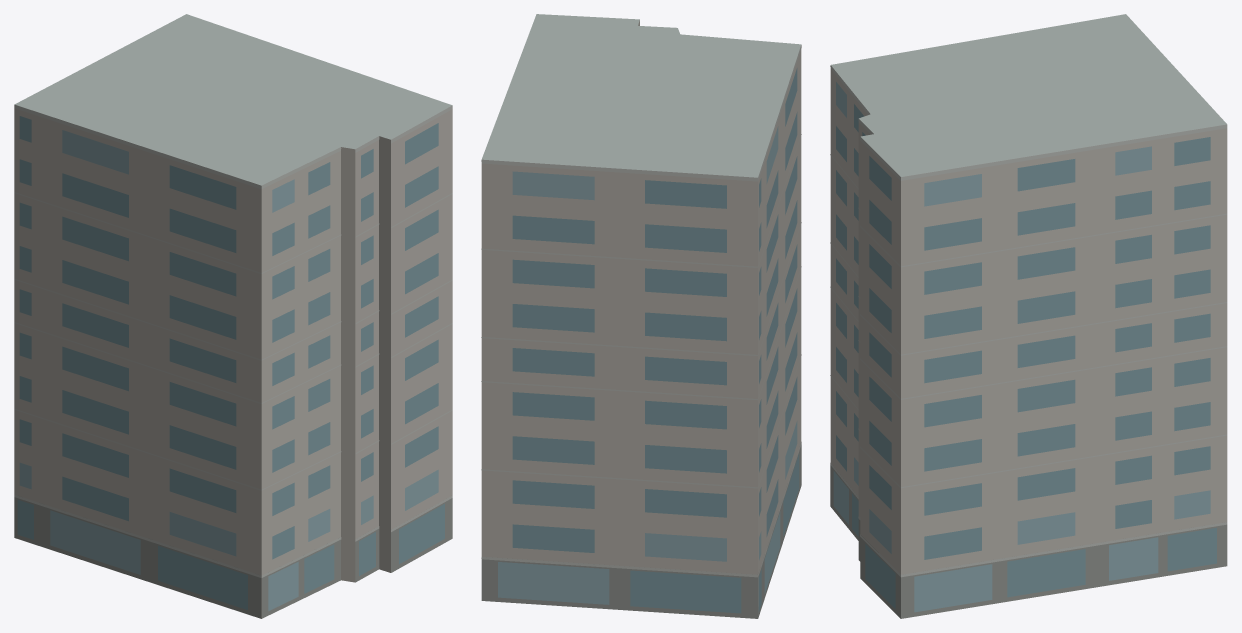
File: survey-upis-32549047.glb
3 renders of one model, left to right at view 1: azimuth 30°, elevation 25°; view 2: azimuth 150°, elevation 25°; view 3: azimuth 270°, elevation 25°, orthographic.
Parts seen in each view (by area): view 1: survey-upis-32549047.tmp; view 2: survey-upis-32549047.tmp; view 3: survey-upis-32549047.tmp.
Part boxes in pixels (x1,y1,x2,y2): survey-upis-32549047.tmp: [14, 14, 452, 618]; survey-upis-32549047.tmp: [481, 14, 801, 618]; survey-upis-32549047.tmp: [830, 14, 1227, 618].
Size of the model in its own units: 22.41 by 28.26 by 23.03.
